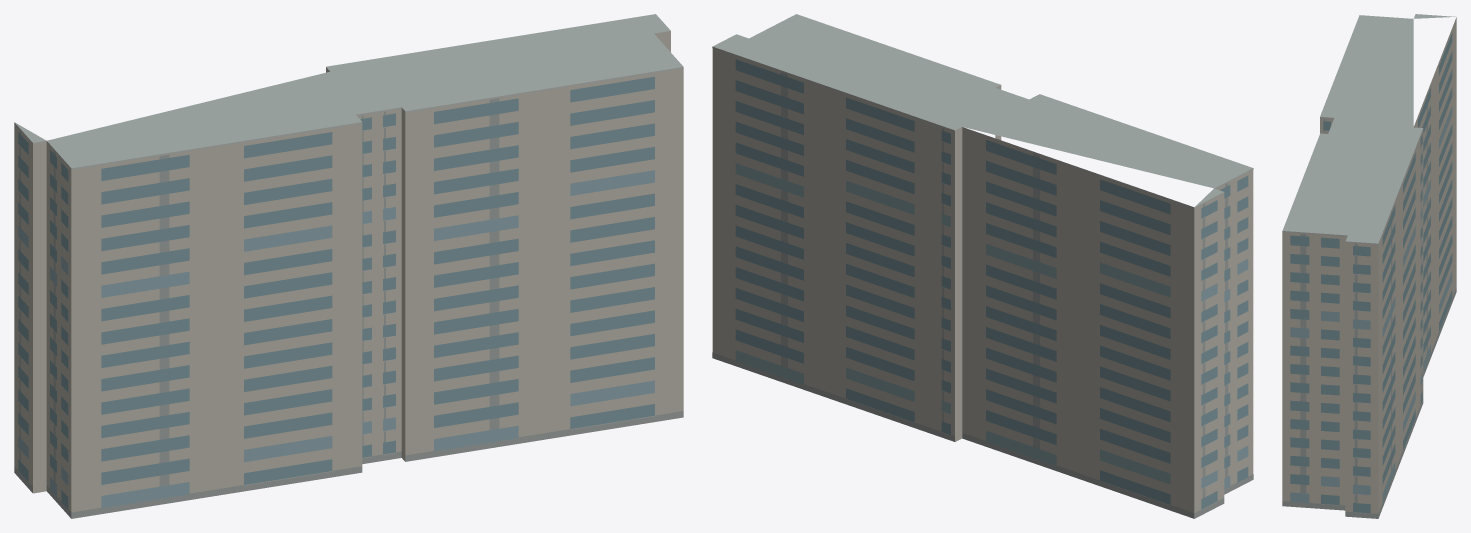
File: residential-e7dbc867-f184-4f53-8623-76348bb2a7b8.glb
The picture shows the model from 3 angles, left to right: view 1: azimuth 30°, elevation 25°; view 2: azimuth 150°, elevation 25°; view 3: azimuth 270°, elevation 25°; orthographic projection. The views are drawn at different scales.
Visible parts, largest first — view 1: residential-e7dbc867-f184-4f53-8623-76348bb2a7b8.tmp; view 2: residential-e7dbc867-f184-4f53-8623-76348bb2a7b8.tmp; view 3: residential-e7dbc867-f184-4f53-8623-76348bb2a7b8.tmp.
Boxes of the visible parts, x1,y1,x2,y2 form: residential-e7dbc867-f184-4f53-8623-76348bb2a7b8.tmp: (14,14,683,518); residential-e7dbc867-f184-4f53-8623-76348bb2a7b8.tmp: (712,14,1253,518); residential-e7dbc867-f184-4f53-8623-76348bb2a7b8.tmp: (1282,14,1456,518).
Size of the model in its own units: 81.86 by 45.75 by 26.24.
